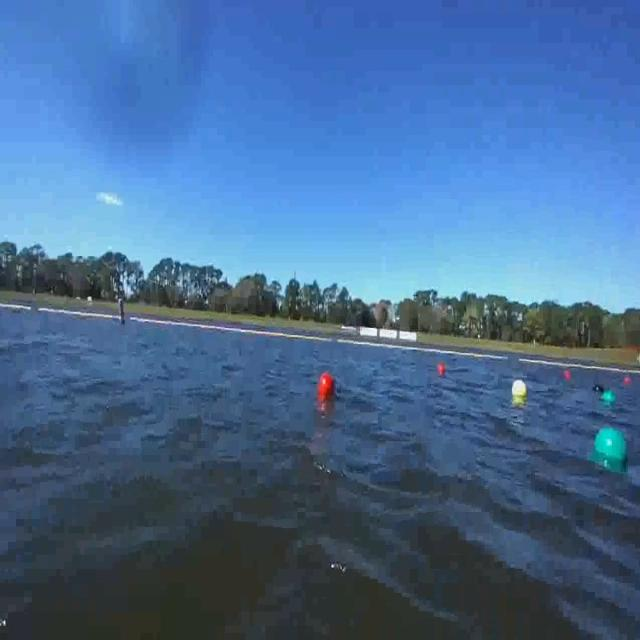green-buoy: (594, 429, 626, 463), (601, 391, 615, 405)
red-buoy: (322, 372, 336, 397), (439, 362, 448, 376), (564, 369, 572, 379), (624, 378, 632, 386)
yellow-buoy: (510, 378, 526, 396)
